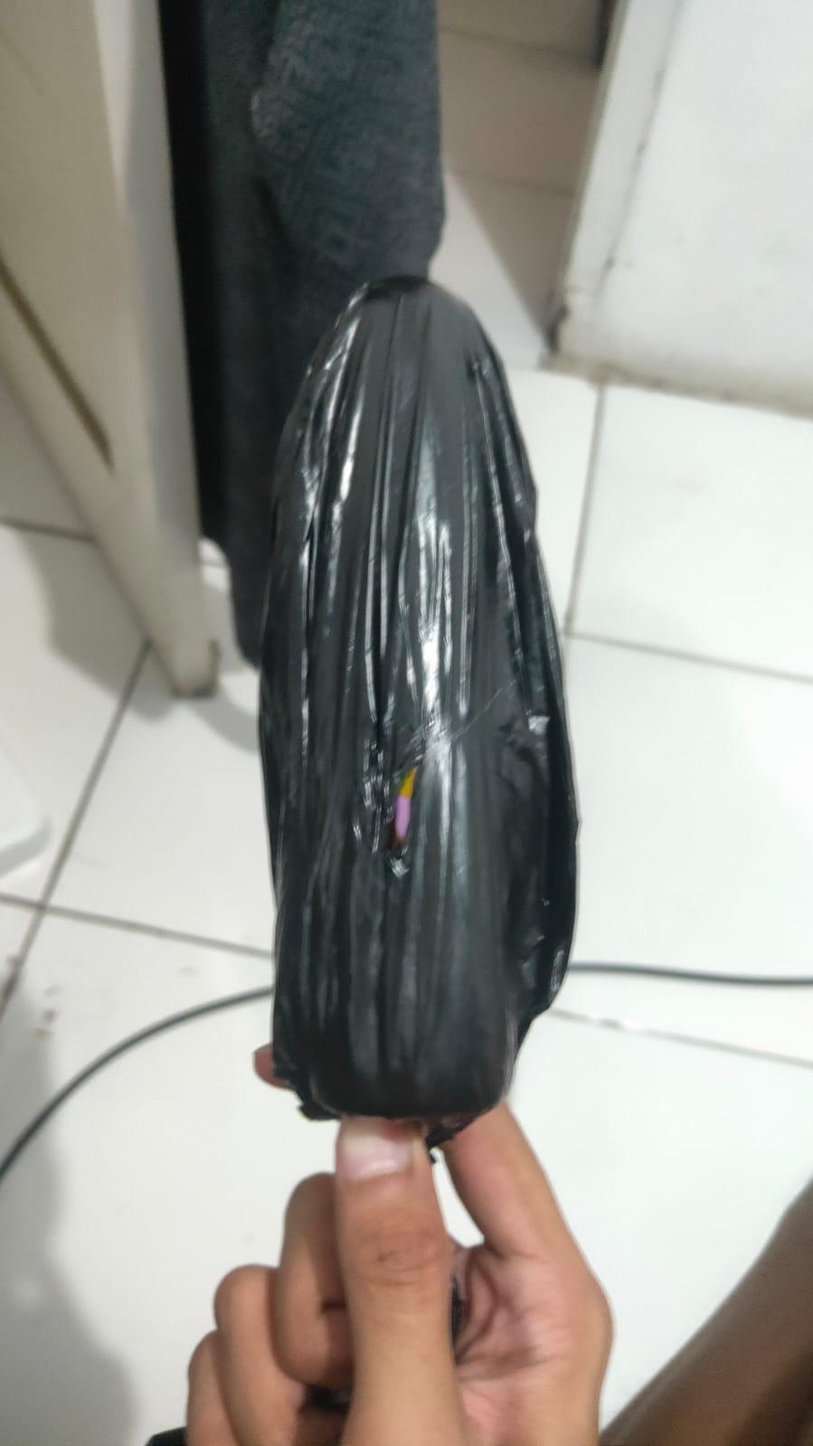damaged package: (369, 736, 438, 875)
undamaged: (227, 257, 589, 1141)
